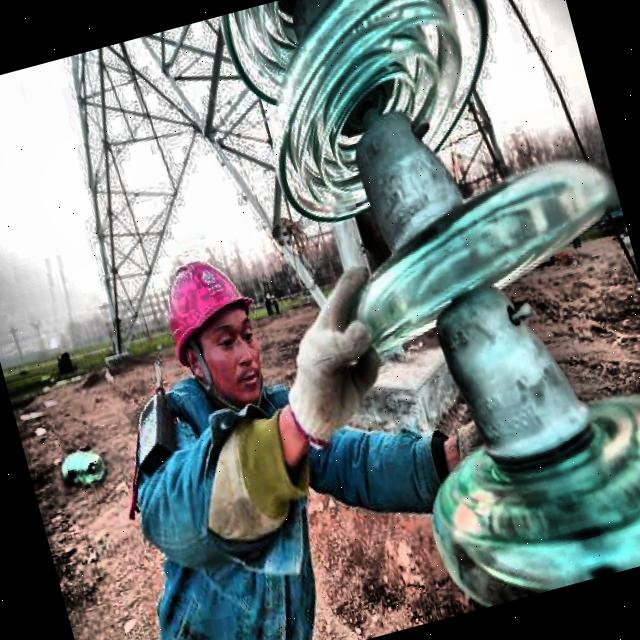helmet: (130, 221, 294, 426)
